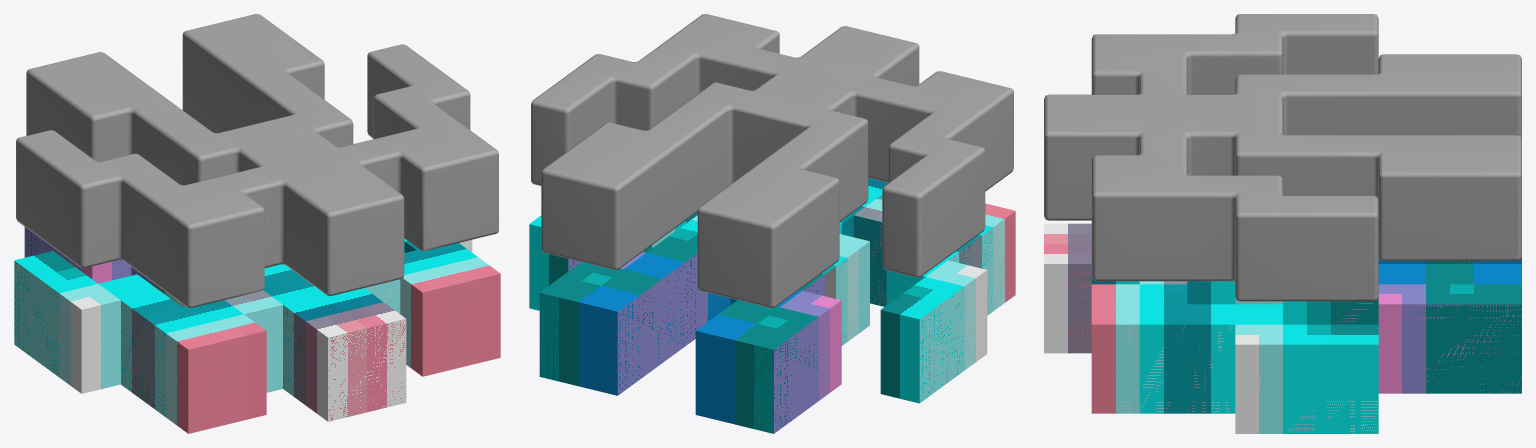
File: spawn_marker.fbx
3 renders of one model, left to right at view 1: azimuth 30°, elevation 25°; view 2: azimuth 150°, elevation 25°; view 3: azimuth 270°, elevation 25°, orthographic. The views are drawn at different scales.
Visible parts, largest first — view 1: ArmySoft, ArmyHard; view 2: ArmySoft, ArmyHard; view 3: ArmySoft, ArmyHard.
Part boxes in pixels (x1,y1,x2,y2): ArmySoft: [16, 14, 498, 307]; ArmyHard: [14, 227, 500, 433]; ArmySoft: [531, 14, 1013, 307]; ArmyHard: [529, 178, 1015, 433]; ArmySoft: [1044, 14, 1521, 301]; ArmyHard: [1044, 223, 1521, 433].
Size of the model in its own units: 1.25 by 0.6345 by 1.25.
